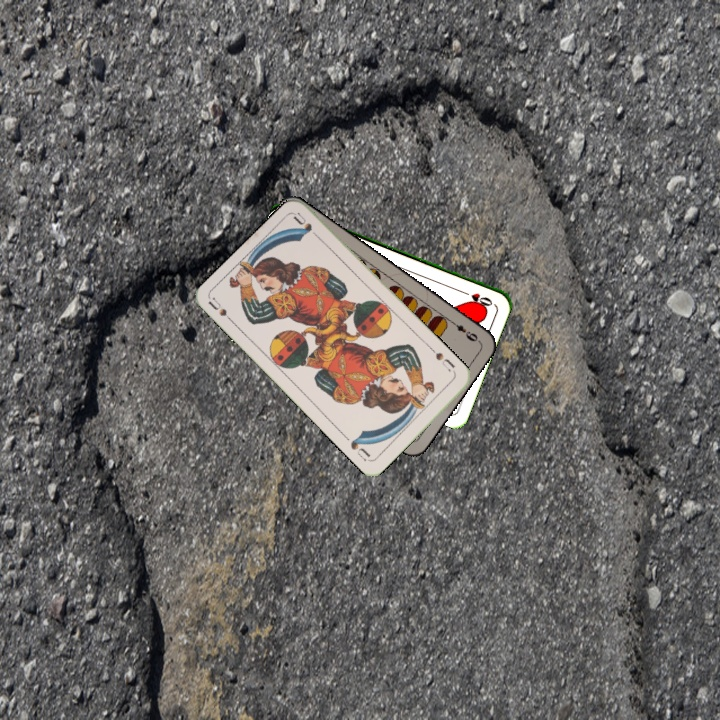E9: (446, 316, 481, 344)
HO: (457, 287, 495, 308)
SU: (204, 294, 239, 328), (431, 348, 458, 374)
